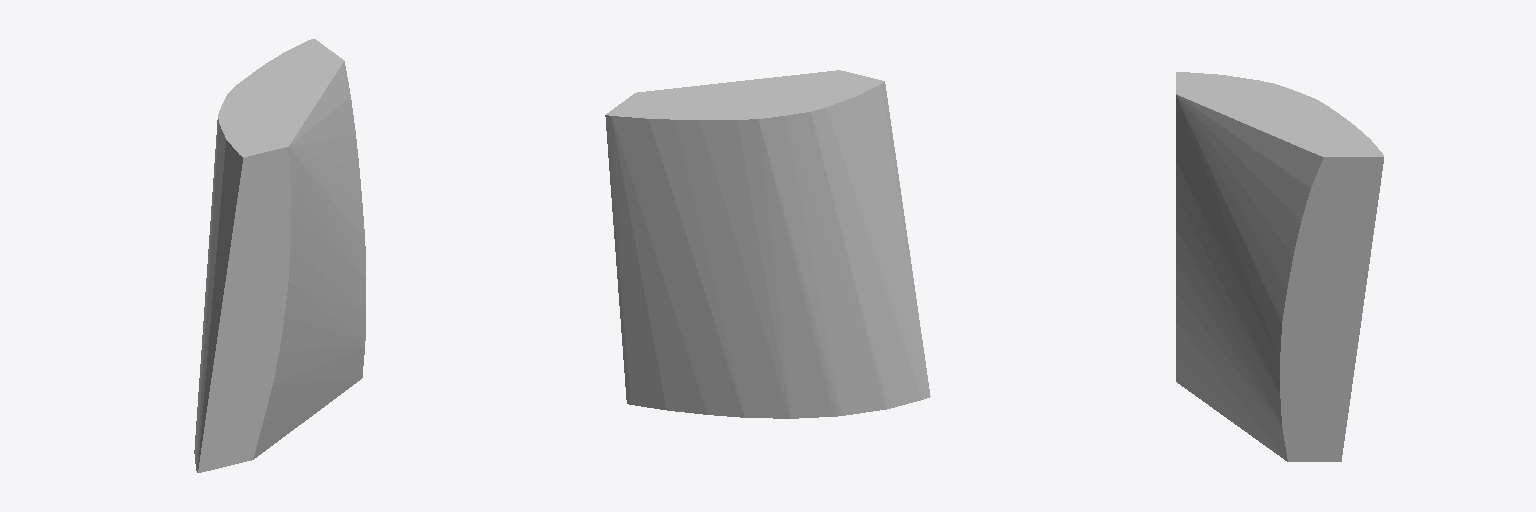
Rendered from phantom-elastrat_collision_52.obj.
3 renders of one model, left to right at view 1: azimuth 30°, elevation 25°; view 2: azimuth 150°, elevation 25°; view 3: azimuth 270°, elevation 25°, orthographic.
Size of the model in its own units: 0.0077 by 0.0102 by 0.0063.